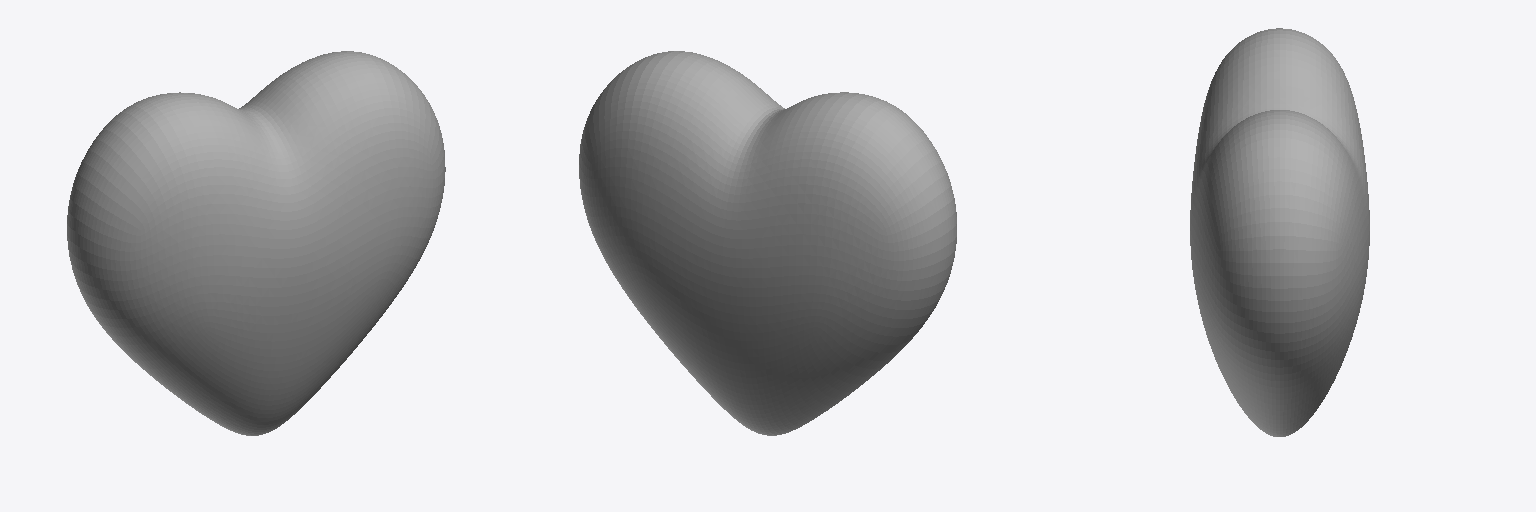
Rendered from Heart.obj.
3 views of the same model, side by side, from view 1: azimuth 30°, elevation 25°; view 2: azimuth 150°, elevation 25°; view 3: azimuth 270°, elevation 25° (orthographic).
Parts seen in each view (by area): view 1: Default; view 2: Default; view 3: Default.
Boxes of the visible parts, x1,y1,x2,y2 form: Default: [67, 51, 445, 435]; Default: [579, 51, 956, 435]; Default: [1190, 28, 1369, 436].
Bounding box in the file's own units: 12.75 × 11.95 × 5.48.